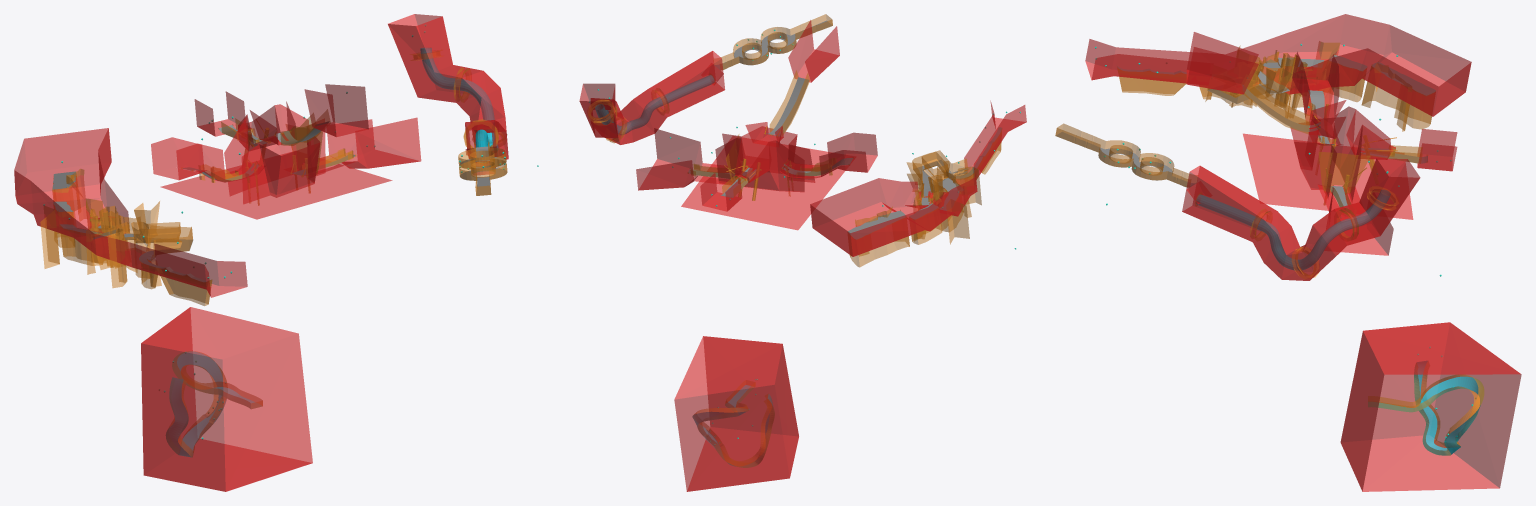
Rendered from VeloRace(scattered).obj.
3 views of the same model, side by side, from view 1: azimuth 30°, elevation 25°; view 2: azimuth 150°, elevation 25°; view 3: azimuth 270°, elevation 25° (orthographic). The views are drawn at different scales.
Visible parts, largest first — view 1: COL_reset04, COL_reset01, COL_reset02, COL_wall02, COL_reset03, COL_maglev01, COL_wall01, COL_wall03, COL_wall04, COL_track02, COL_track01, COL_track03; view 2: COL_reset01, COL_reset04, COL_reset02, COL_reset03, COL_wall02, COL_wall03, COL_wall01, COL_track02, COL_maglev01, COL_track01, COL_wall04, COL_track03; view 3: COL_reset04, COL_reset01, COL_reset02, COL_reset03, COL_wall02, COL_maglev01, COL_wall01, COL_wall03, COL_wall04, COL_track02, COL_track01, COL_track03.
Part boxes in pixels (x1,y1,x2,y2): COL_reset04: [141, 307, 312, 491]; COL_reset01: [151, 84, 421, 219]; COL_reset02: [14, 128, 247, 297]; COL_wall02: [40, 169, 212, 305]; COL_reset03: [388, 14, 508, 174]; COL_maglev01: [166, 48, 498, 456]; COL_wall01: [181, 109, 356, 205]; COL_wall03: [411, 50, 507, 195]; COL_wall04: [169, 351, 262, 456]; COL_track02: [52, 171, 210, 281]; COL_track01: [183, 121, 355, 181]; COL_track03: [459, 146, 507, 195]; COL_reset01: [636, 20, 877, 230]; COL_reset04: [674, 336, 798, 491]; COL_reset02: [810, 101, 1026, 256]; COL_reset03: [579, 51, 724, 144]; COL_wall02: [849, 130, 1001, 267]; COL_wall03: [588, 14, 832, 143]; COL_wall01: [688, 70, 835, 200]; COL_track02: [848, 127, 1001, 239]; COL_maglev01: [595, 75, 772, 465]; COL_track01: [688, 77, 852, 197]; COL_wall04: [694, 380, 774, 467]; COL_track03: [714, 20, 832, 69]; COL_reset04: [1340, 322, 1521, 491]; COL_reset01: [1186, 32, 1457, 255]; COL_reset02: [1085, 14, 1471, 116]; COL_reset03: [1182, 158, 1420, 280]; COL_wall02: [1117, 41, 1433, 131]; COL_maglev01: [1196, 190, 1483, 455]; COL_wall01: [1241, 74, 1427, 207]; COL_wall03: [1055, 123, 1398, 278]; COL_wall04: [1368, 361, 1484, 455]; COL_track02: [1117, 55, 1435, 103]; COL_track01: [1243, 85, 1427, 215]; COL_track03: [1056, 132, 1196, 186].
Size of the model in its own units: 816 by 777 by 738.
